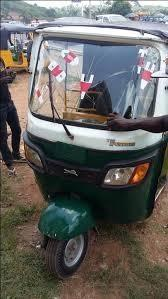keke: (25, 14, 168, 278)
